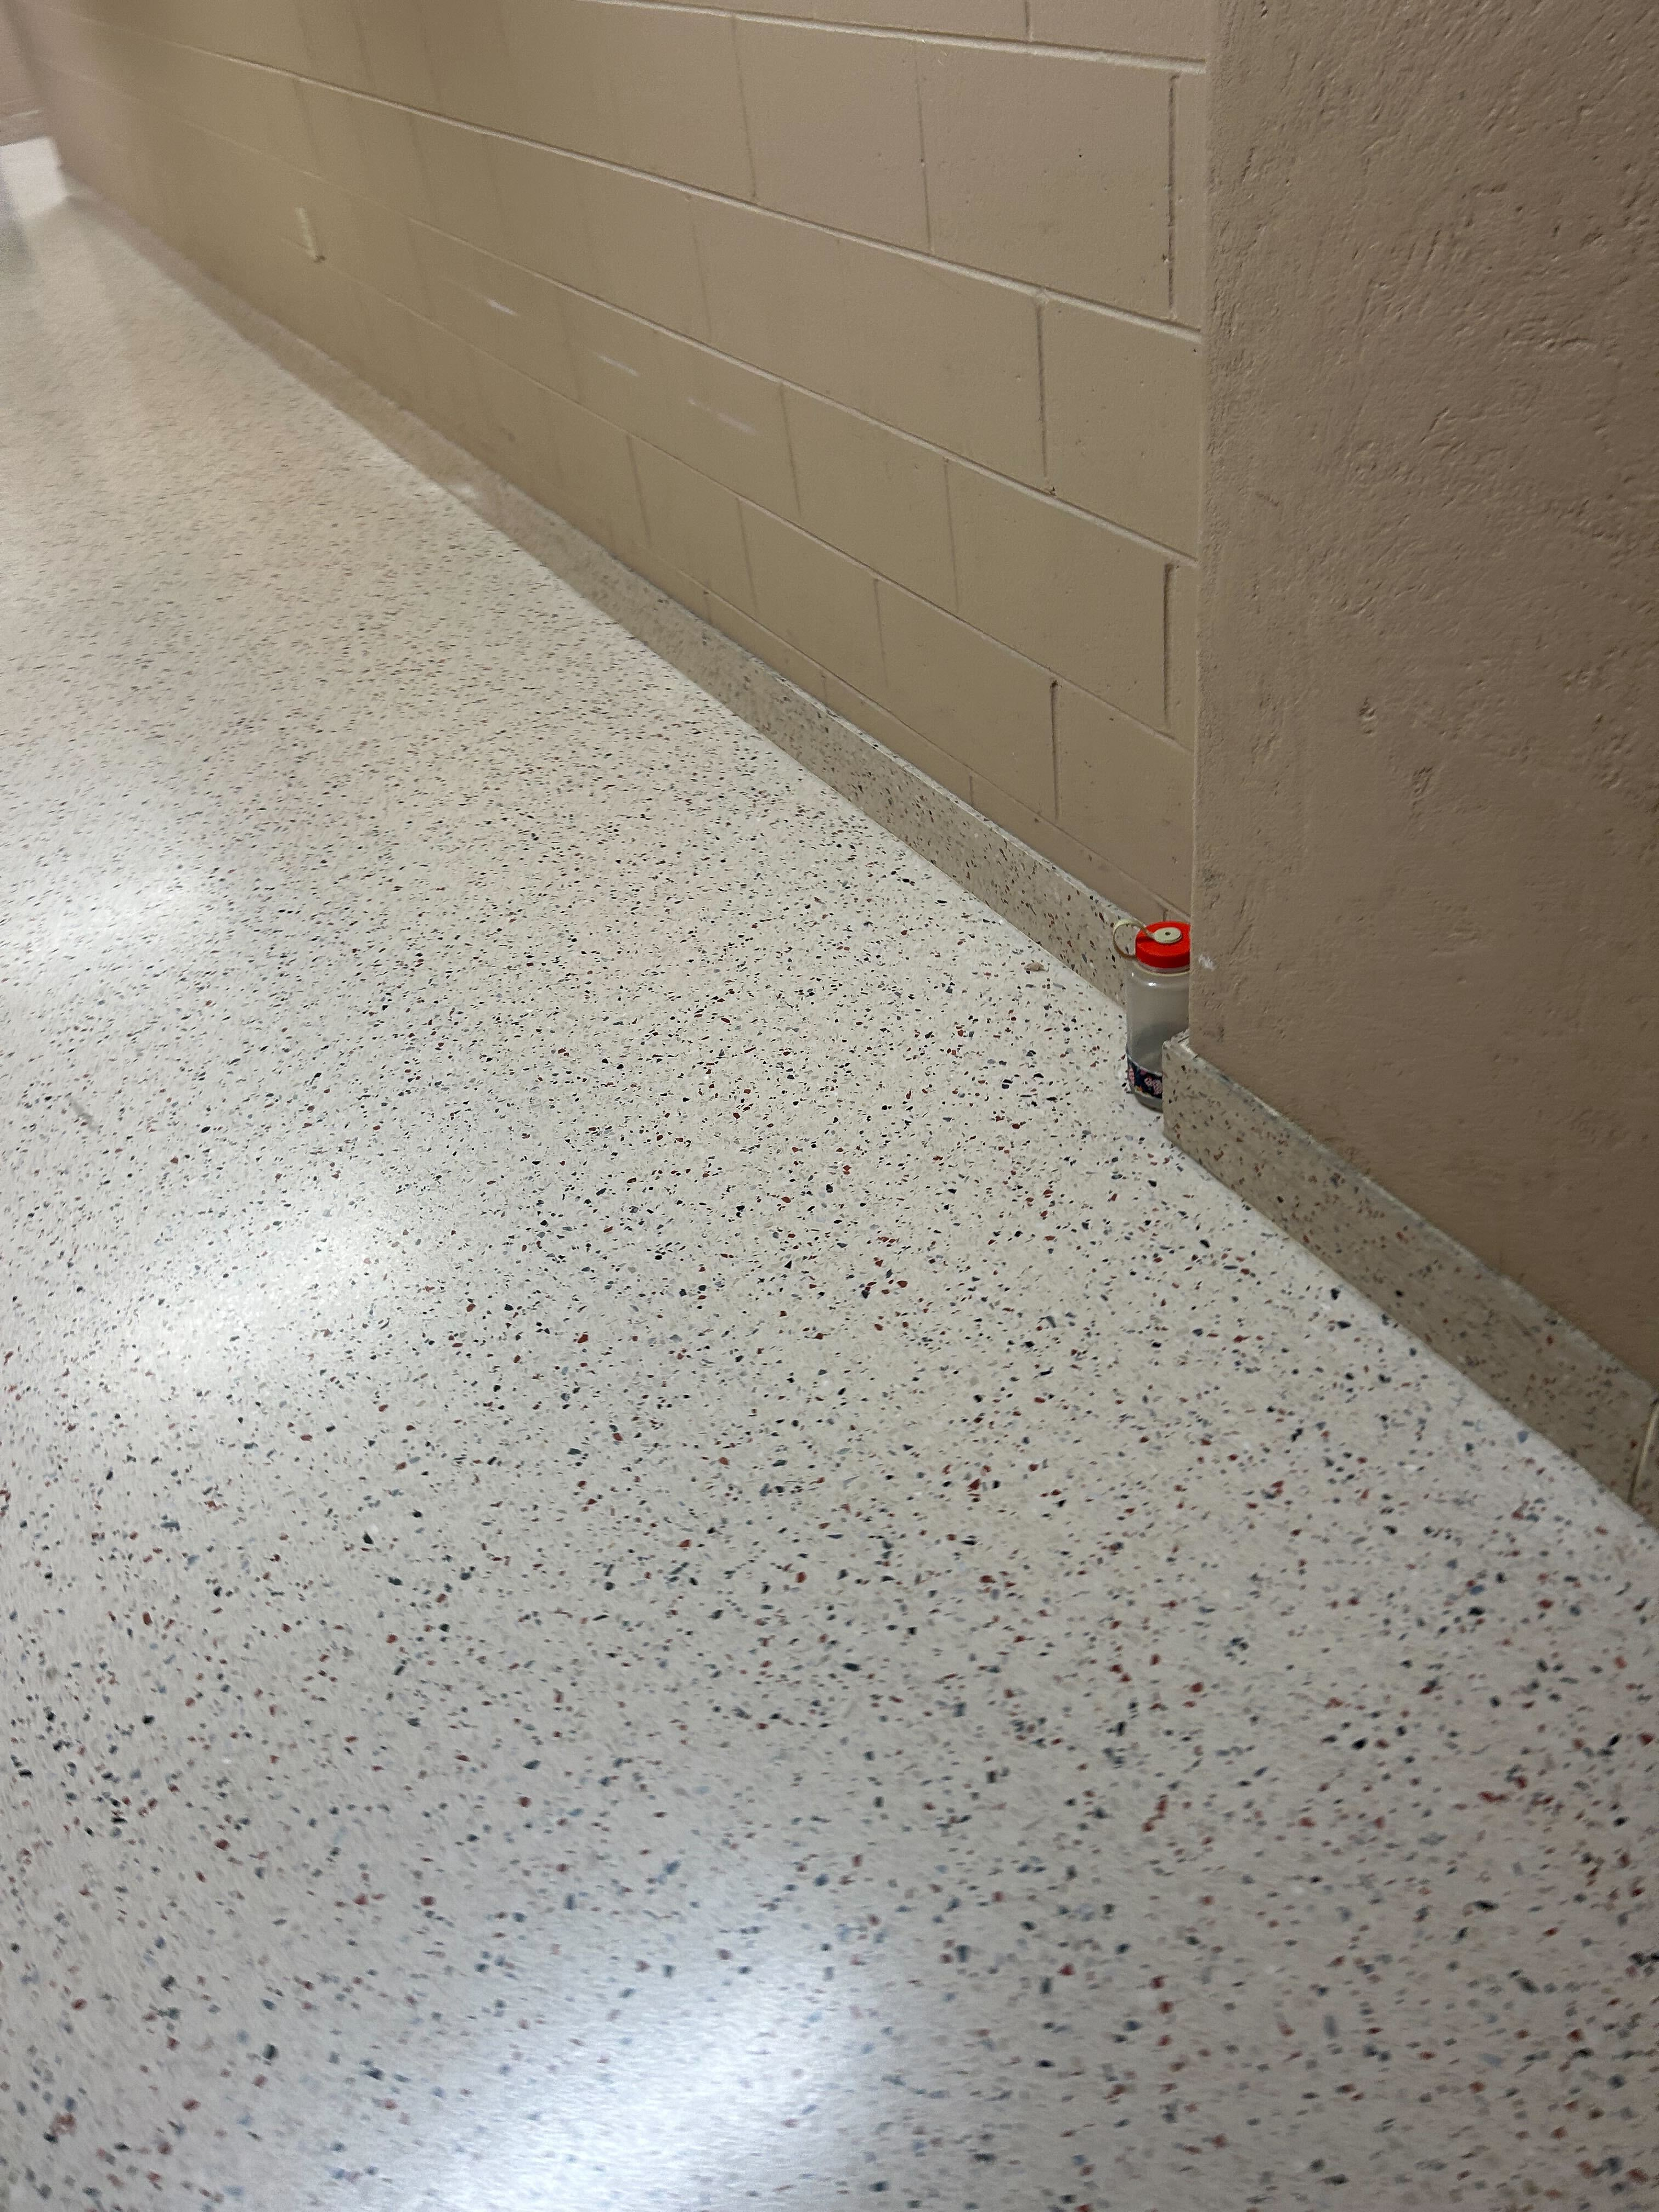bottle: (1107, 904, 1195, 1122)
